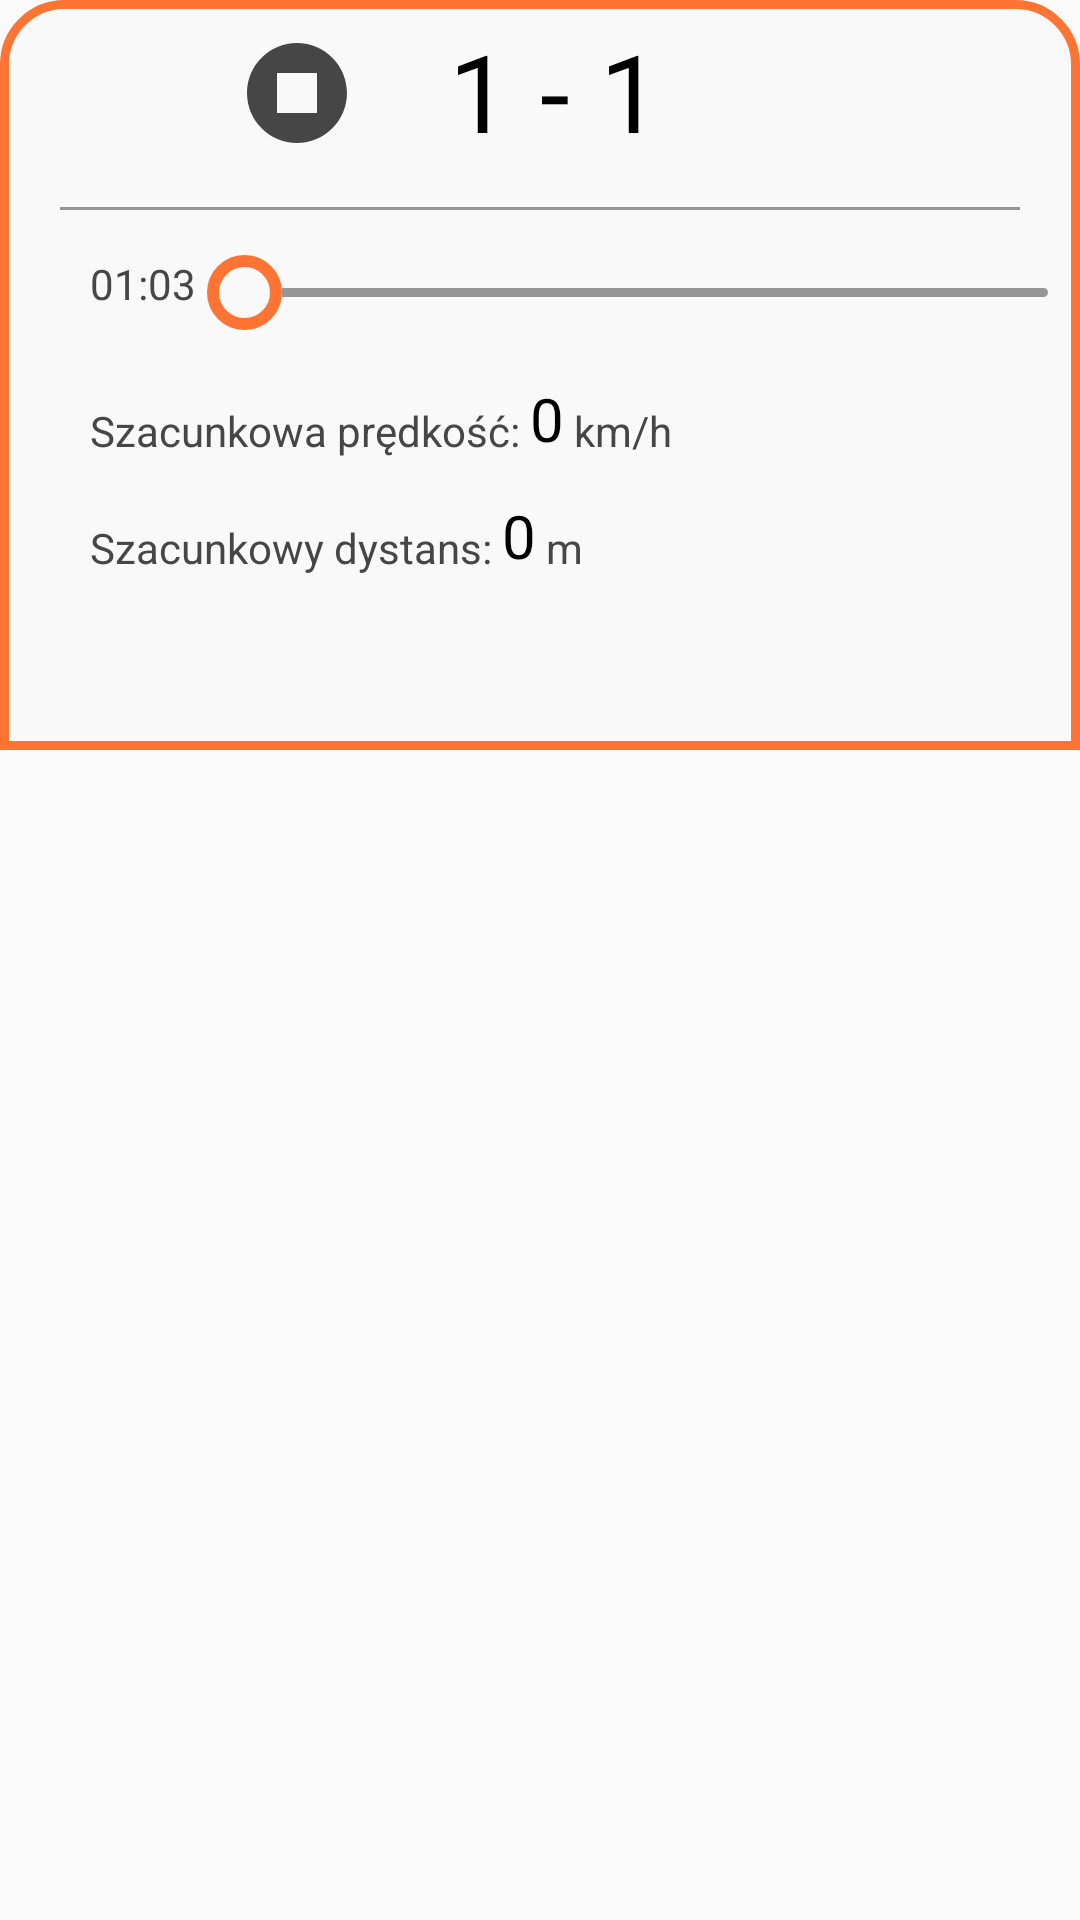

Icon click points for this 1080×1920 phone screenshot, format point (x, y):
stop: point (297, 93)
